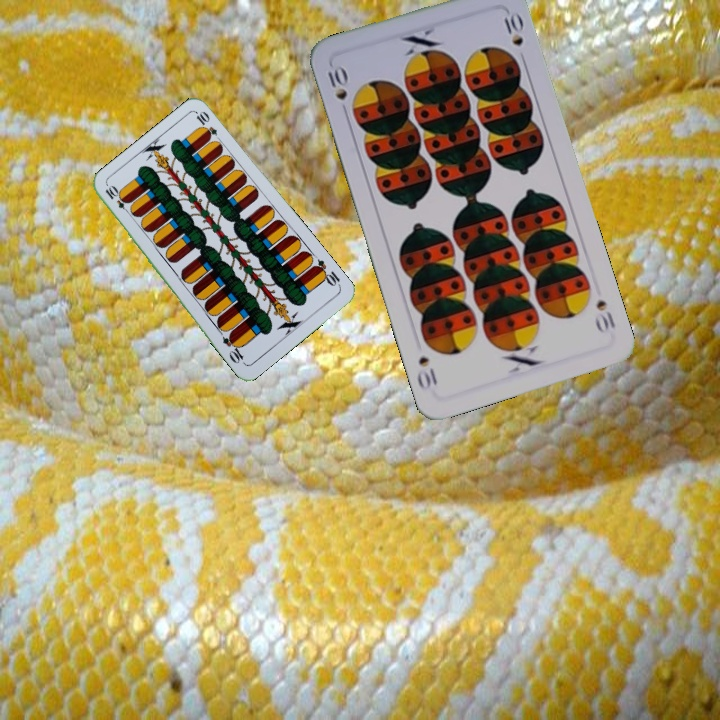E10: (309, 255, 343, 290), (101, 182, 134, 217)
S10: (590, 295, 618, 336), (323, 61, 350, 103)
